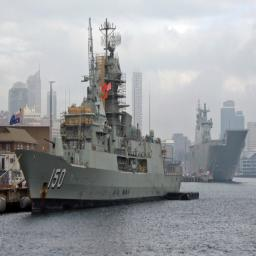Fragata: (16, 19, 186, 218)
